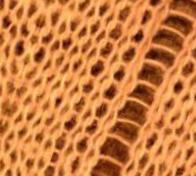slub: (90, 0, 195, 176)
